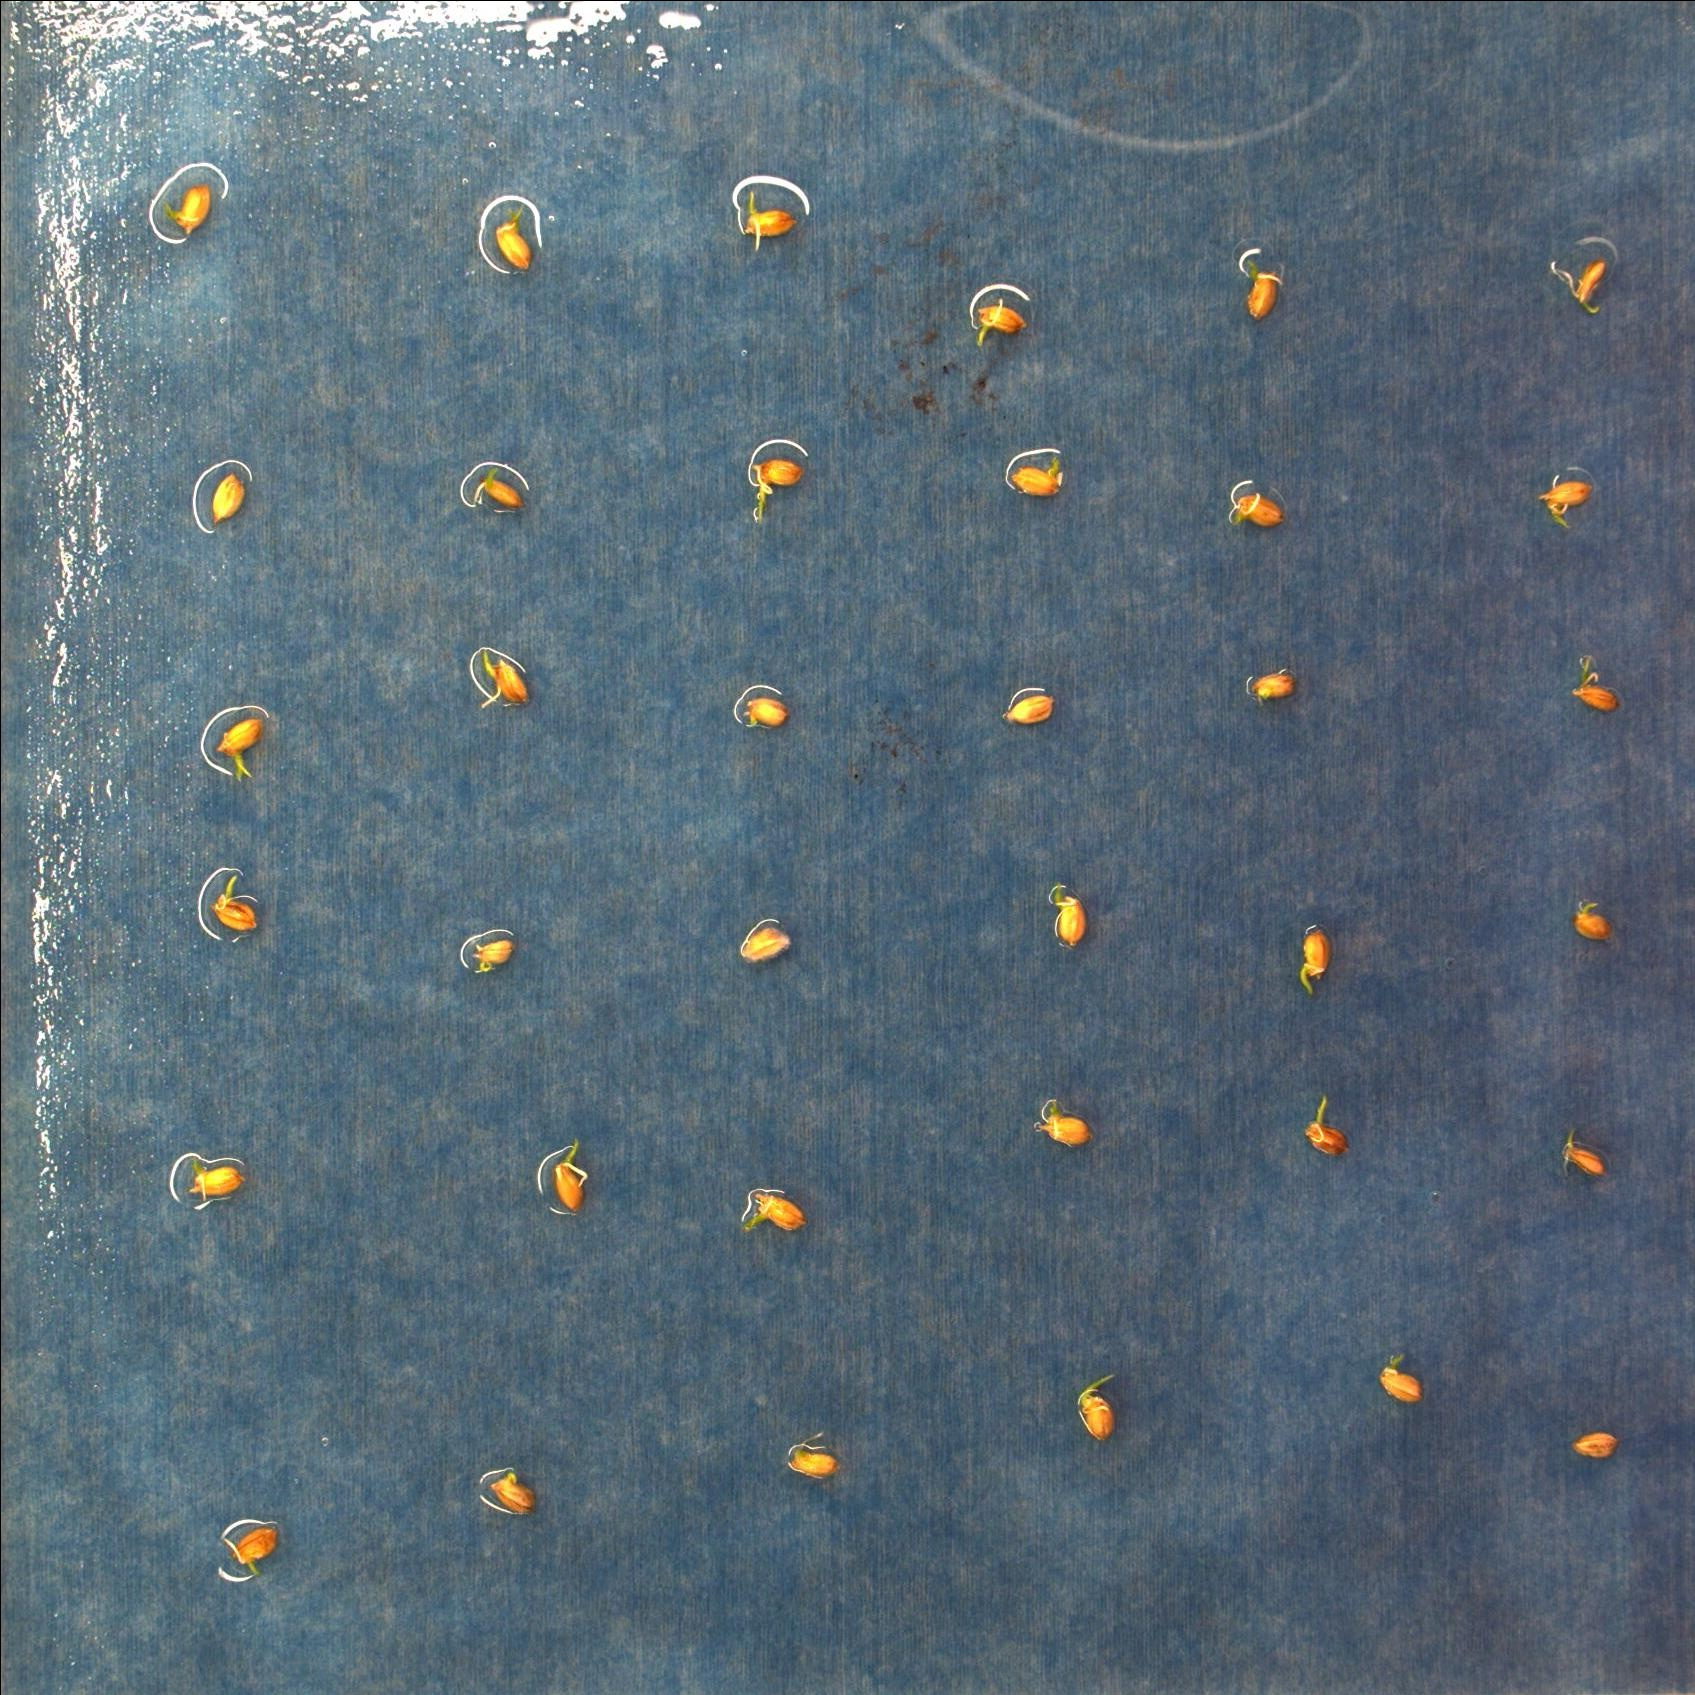not sprout: (1551, 258, 1611, 314), (224, 1523, 279, 1579), (165, 180, 214, 237), (1037, 1097, 1093, 1147), (1052, 880, 1093, 948), (1558, 1127, 1611, 1177), (787, 1434, 844, 1479), (191, 1156, 244, 1203), (1378, 1352, 1423, 1405), (210, 466, 245, 528), (497, 205, 528, 272), (1232, 490, 1284, 531), (1003, 691, 1059, 726), (490, 1471, 542, 1510), (740, 927, 792, 964), (470, 934, 512, 976), (1572, 900, 1613, 941), (1253, 672, 1298, 708), (744, 695, 793, 726), (1571, 1430, 1620, 1461)
sprout: (213, 714, 267, 785), (1540, 472, 1599, 532), (740, 188, 796, 251), (751, 459, 807, 523), (478, 647, 534, 708), (1301, 1093, 1350, 1158), (208, 872, 261, 933), (744, 1187, 806, 1237), (553, 1135, 590, 1214), (978, 293, 1028, 352), (1077, 1374, 1118, 1444), (1572, 657, 1620, 712), (1243, 255, 1281, 320), (1301, 924, 1332, 998), (470, 466, 525, 508), (1010, 455, 1062, 498)
